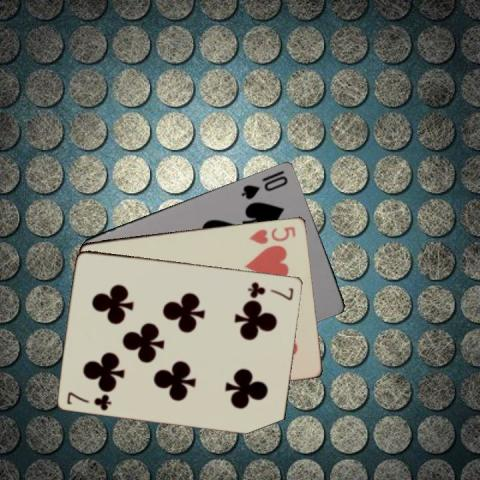10s: (239, 172, 289, 201)
5h: (246, 223, 297, 245)
7c: (64, 388, 113, 412), (245, 278, 295, 300)
